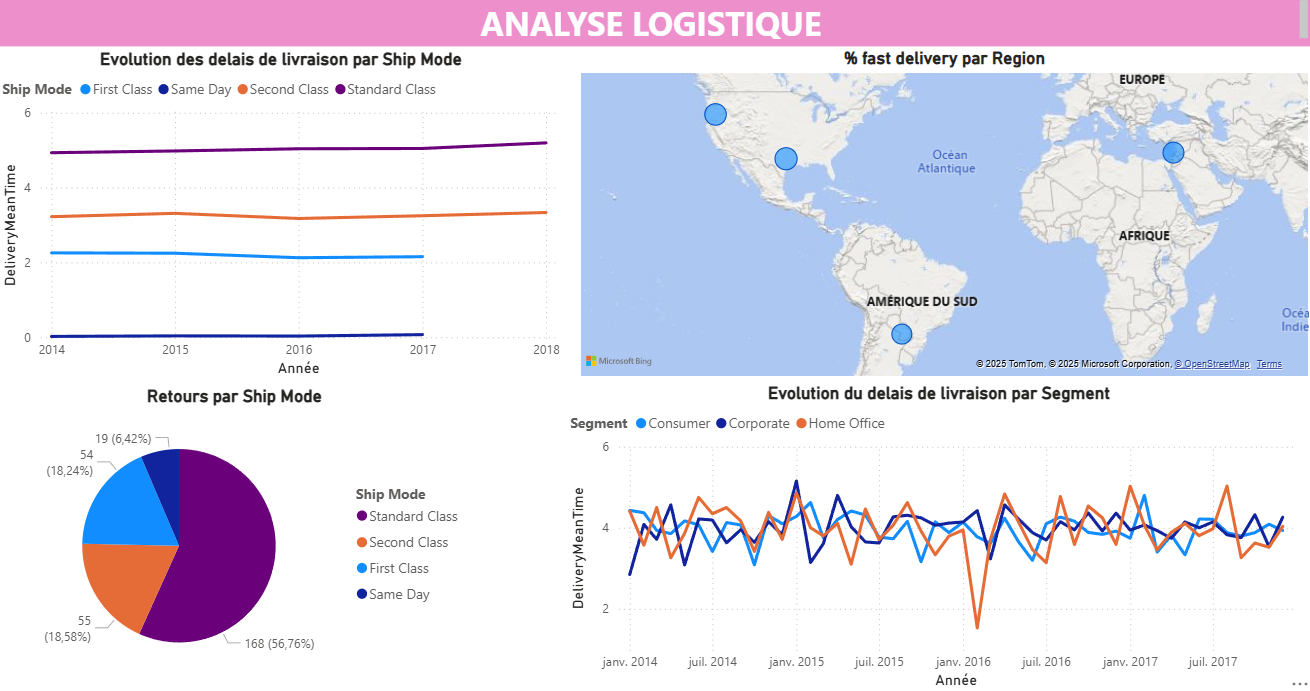

This screenshot's page, from the dashboard's own definition file:
{"tool":"powerbi","page":{"name":"Logistique2","canvas":[1280,720],"ordinal":6},"visuals":[{"type":"lineChart","title":"Evolution des delais de livraison par Ship Mode","fields":{"Category":["Orders.Ship Date.Variation.Hiérarchie de dates.Année","Orders.Ship Date.Variation.Hiérarchie de dates.Trimestre","Orders.Ship Date.Variation.Hiérarchie de dates.Mois","Orders.Ship Date.Variation.Hiérarchie de dates.Jour"],"Series":["Orders.Ship Mode"],"Y":["DAX.DeliveryMeanTime"]},"box":[0,52.5,552.5,323.9],"z":0},{"type":"textbox","box":[0,0,1280,49.6],"z":1},{"type":"pieChart","title":"Retours par Ship Mode","fields":{"Category":["Orders.Ship Mode"],"Y":["DAX.TotalReturnOrders"]},"box":[0,380.3,462,291.8],"z":2},{"type":"lineChart","title":" Evolution du delais de livraison par Segment","fields":{"Y":["DAX.DeliveryMeanTime"],"Category":["Orders.Order Date.Variation.Hiérarchie de dates.Année","Orders.Order Date.Variation.Hiérarchie de dates.Mois"],"Series":["Orders.Segment"]},"box":[552.5,377.4,727.5,302.5],"z":3},{"type":"map","fields":{"Category":["Orders.Geographie.Region"],"Size":["DAX.% fast delivery"]},"box":[563.2,51.6,716.8,323.9],"z":4},{"type":"pageNavigator","box":[0,671.1,1280,37.9],"z":5}]}

Visuals, with their boxes on the page's 1280x720 design canvas (x1, y1, x2, y2). These are canvas units, not pixel positions in the 1310x691 screenshot, which may show the page scaled, cropped or inside an application window:
"Evolution des delais de livraison par Ship Mode" lineChart: crop(0, 52, 552, 376)
textbox: crop(0, 0, 1280, 50)
"Retours par Ship Mode" pieChart: crop(0, 380, 462, 672)
" Evolution du delais de livraison par Segment" lineChart: crop(552, 377, 1280, 680)
map - Orders.Geographie.Region x DAX.% fast delivery: crop(563, 52, 1280, 376)
pageNavigator: crop(0, 671, 1280, 709)
